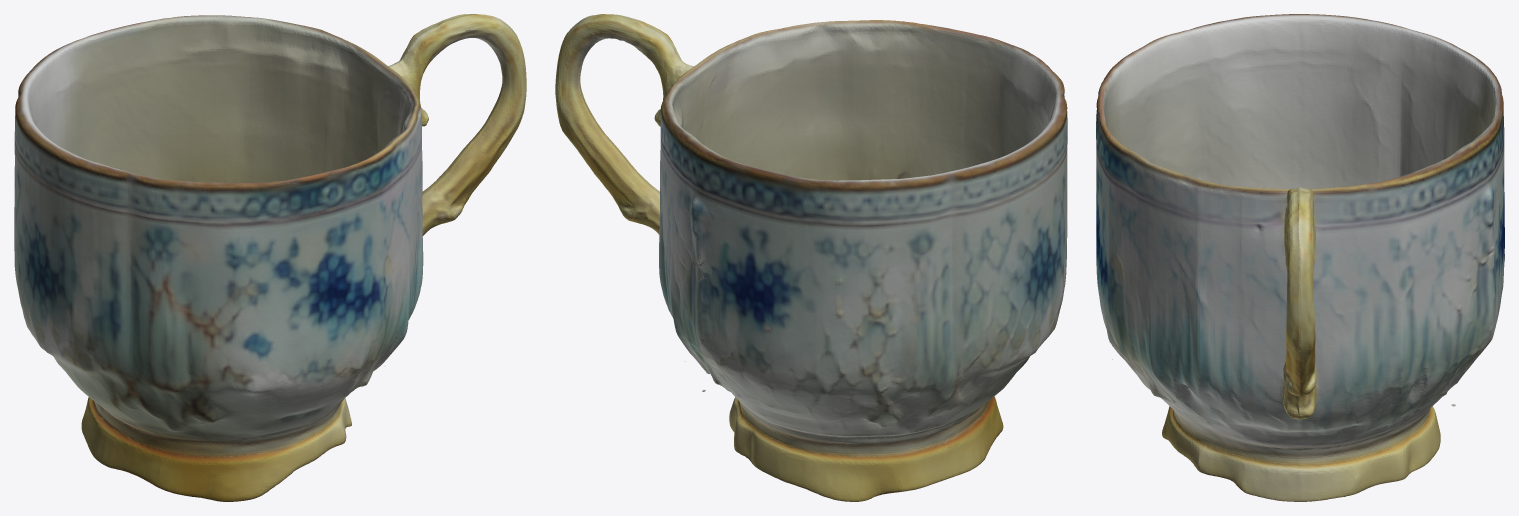
File: fastsam3d.glb
3 views of the same model, side by side, from view 1: azimuth 30°, elevation 25°; view 2: azimuth 150°, elevation 25°; view 3: azimuth 270°, elevation 25° (orthographic).
Parts seen in each view (by area): view 1: world; view 2: world; view 3: world.
Boxes of the visible parts, left/top/right/bottom form: world: left=14, top=14, right=526, bottom=501; world: left=555, top=14, right=1067, bottom=501; world: left=1096, top=14, right=1504, bottom=501.
Size of the model in its own units: 0.7927 by 0.5743 by 0.5681.
